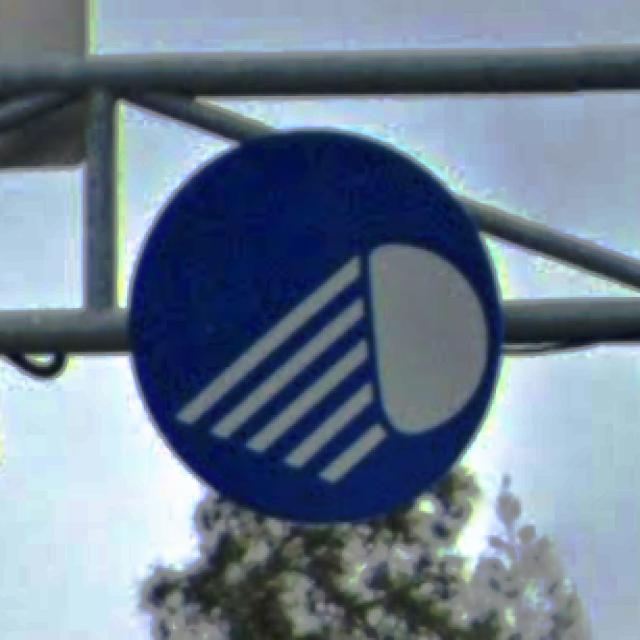lightson: (131, 132, 503, 520)
